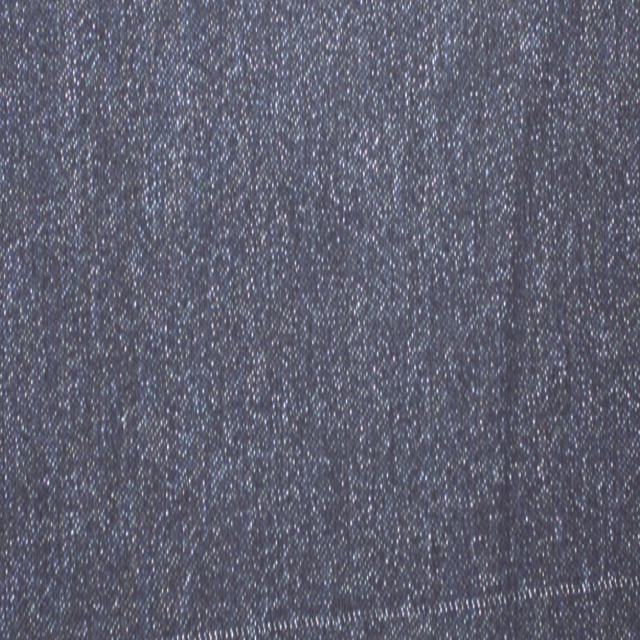Line: (179, 573, 640, 640)
